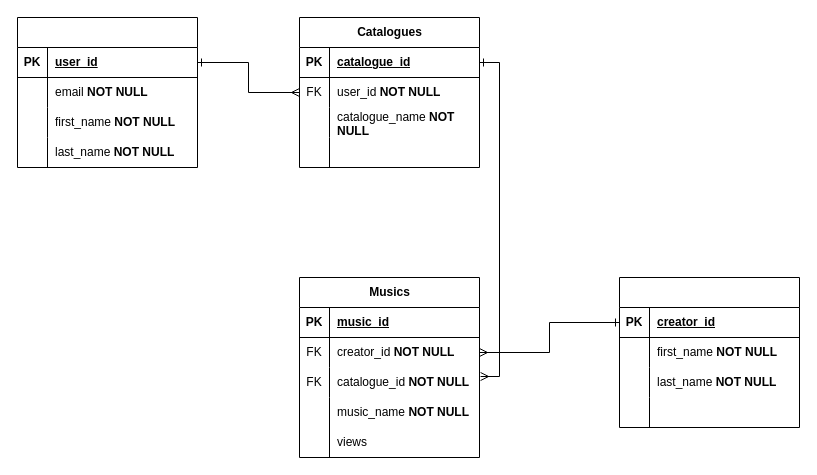
This 817x475 diagram has some shape labels left out. The shapes that lost their labels are listed below. From the top down, each one's box as (x1, y1, x2, y2) in pixels, then its label:
(16, 16, 198, 168): Users
(618, 276, 800, 428): Creators
